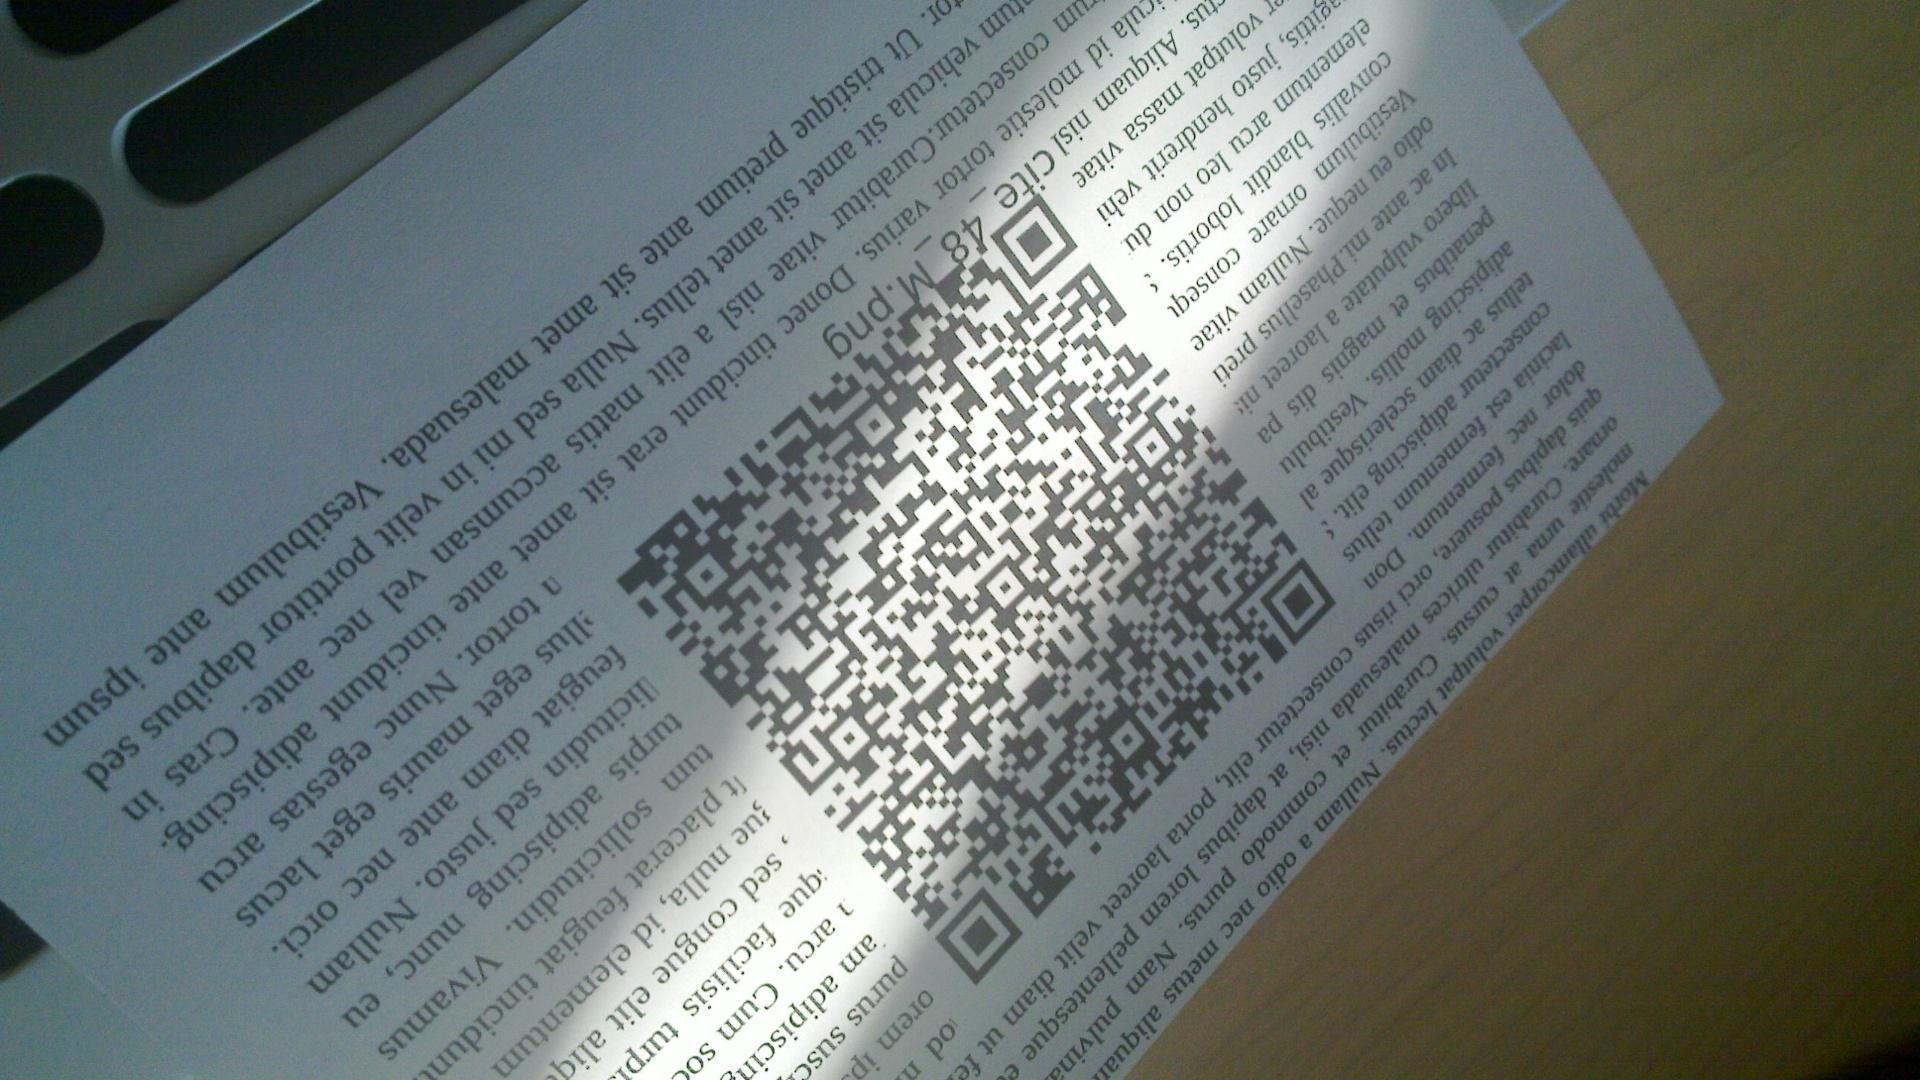Finder pattern: (988, 195, 1077, 287), (936, 891, 1023, 981), (1262, 560, 1342, 645)
